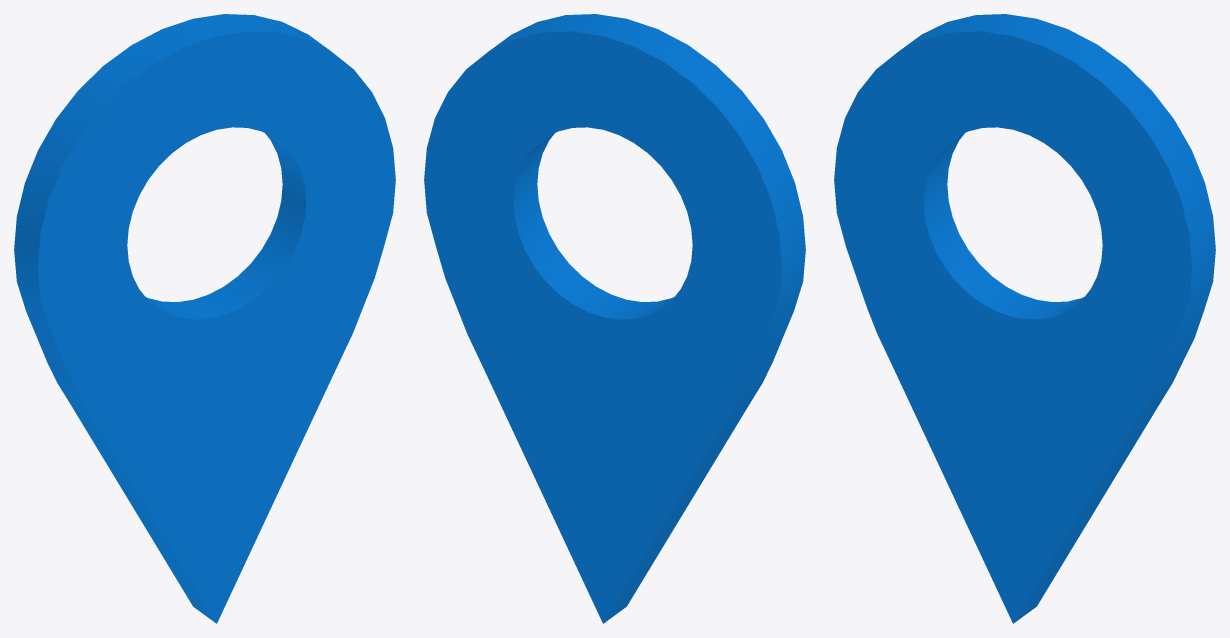
The model's file is pin.glb.
3 renders of one model, left to right at view 1: azimuth 30°, elevation 25°; view 2: azimuth 150°, elevation 25°; view 3: azimuth 330°, elevation 25°, orthographic.
Visible parts, largest first — view 1: pin; view 2: pin; view 3: pin.
Part boxes in pixels (x1,y1,x2,y2): pin: (14,14,395,623); pin: (424,14,805,623); pin: (834,14,1215,623).
Size of the model in its own units: 1.12 by 1.76 by 0.1288.
